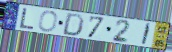2: (113, 19, 132, 44)
7: (87, 14, 107, 39)
D: (61, 12, 86, 37)
I: (140, 22, 153, 46)
L: (19, 7, 36, 31)
O: (38, 10, 59, 34)
